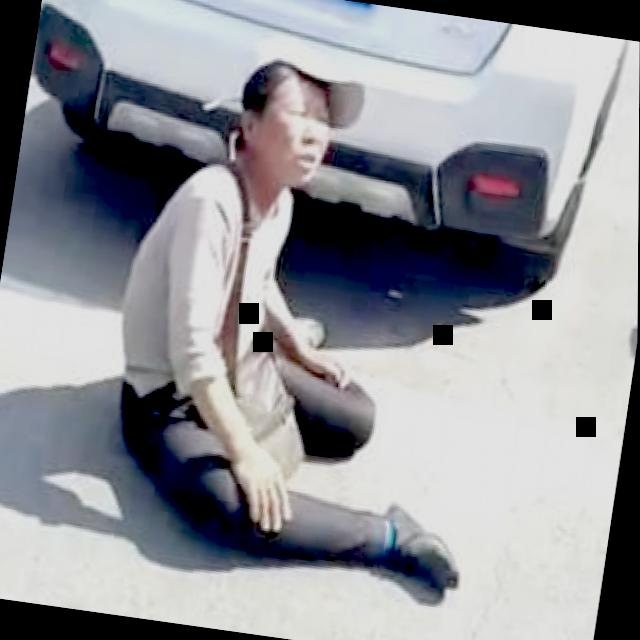Fall-Detected: (51, 18, 569, 610)
